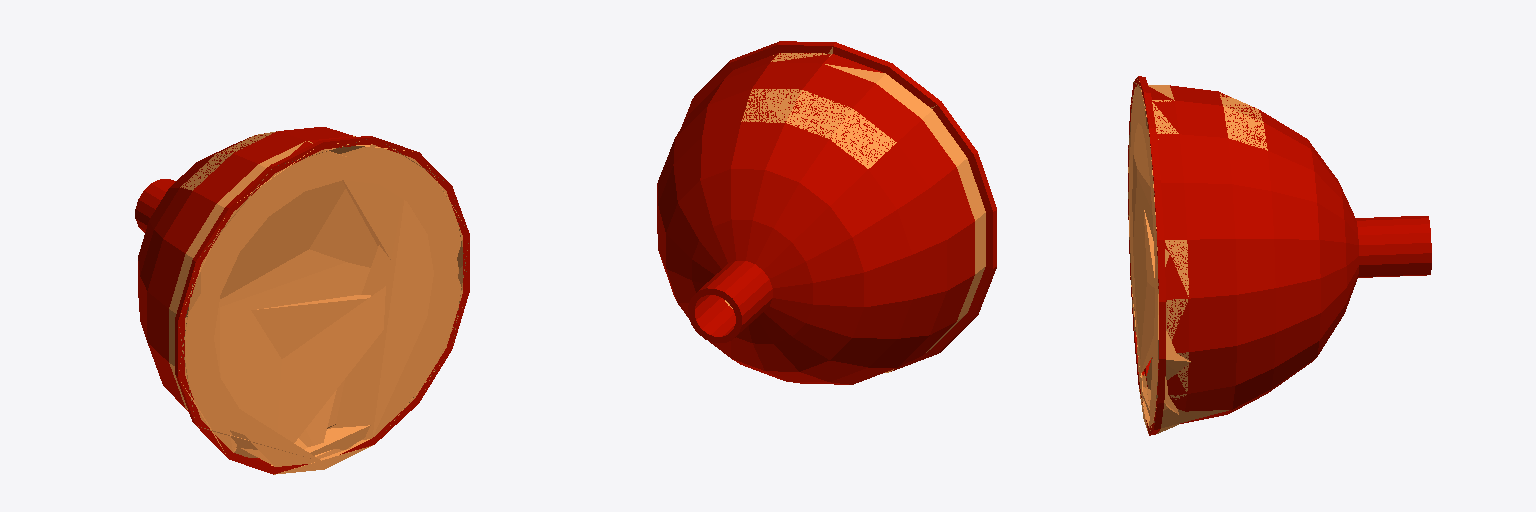
The model's file is Plunger.obj.
3 renders of one model, left to right at view 1: azimuth 30°, elevation 25°; view 2: azimuth 150°, elevation 25°; view 3: azimuth 270°, elevation 25°, orthographic.
Parts seen in each view (by area): view 1: Cylinder001, Object001; view 2: Object001, Cylinder001; view 3: Object001, Cylinder001.
Part boxes in pixels (x1,y1,x2,y2): Cylinder001: (169,131,468,474); Object001: (135,127,469,474); Object001: (657,41,996,384); Cylinder001: (725,47,985,372); Object001: (1128,76,1431,435); Cylinder001: (1128,79,1267,433).
Size of the model in its own units: 270183 by 275399 by 231361.